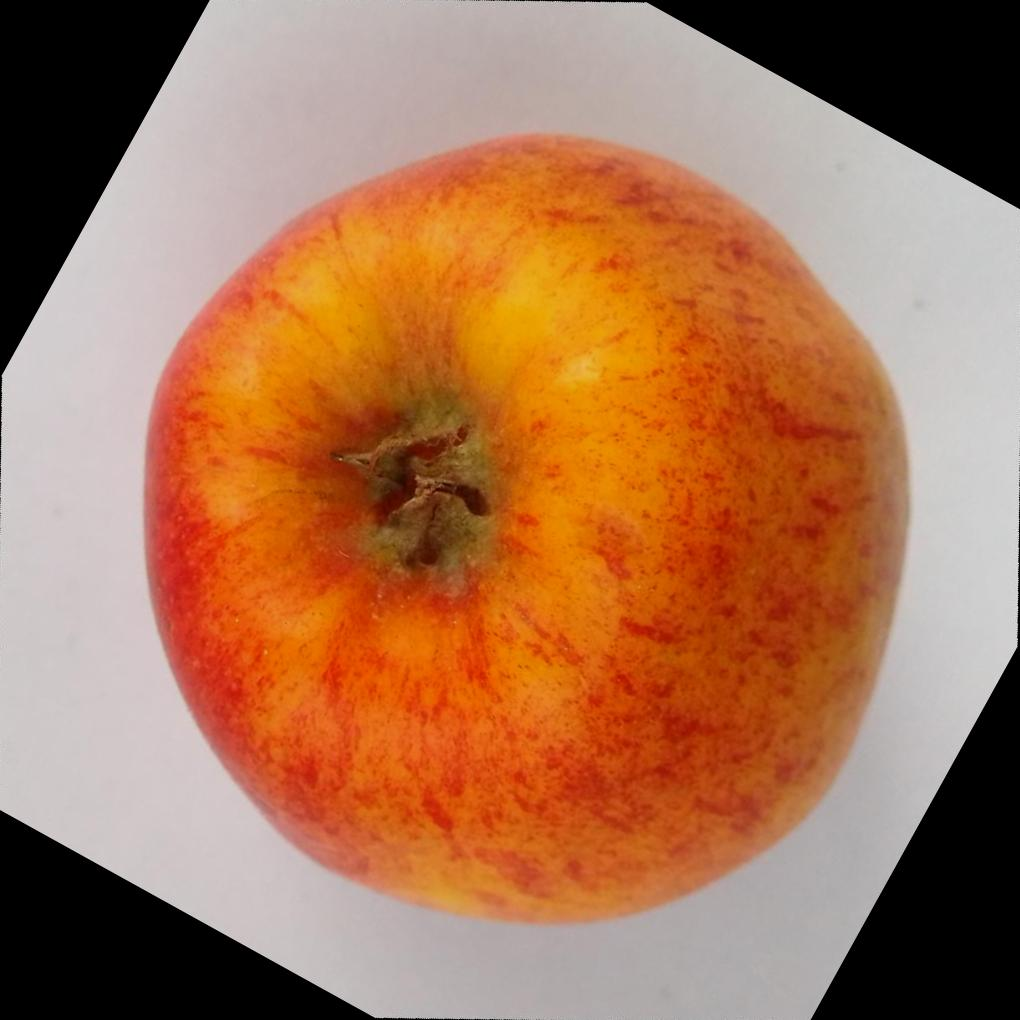FreshGuava: (138, 131, 910, 931)
